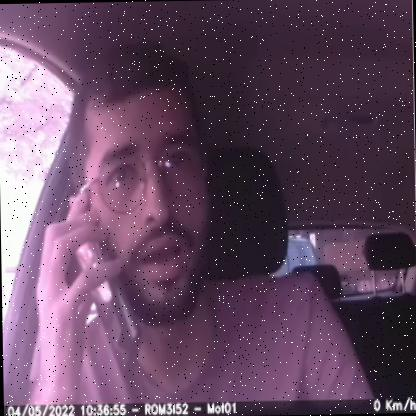phone: (58, 201, 146, 380)
